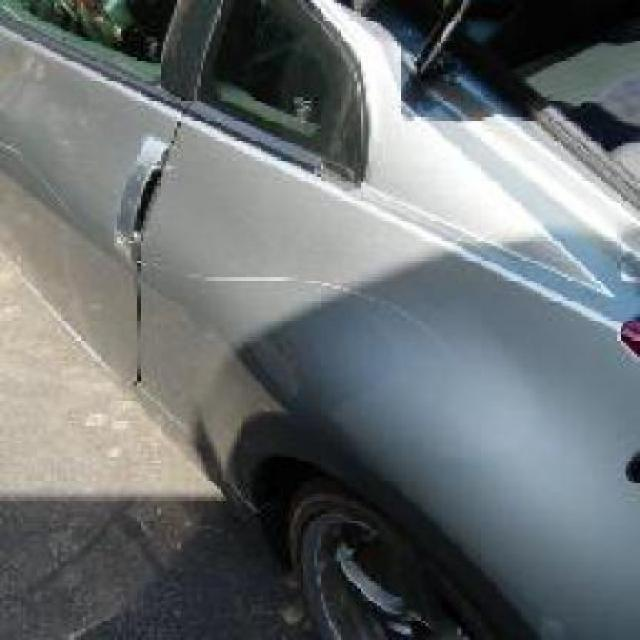dent-or-scratch: (129, 245, 434, 344)
